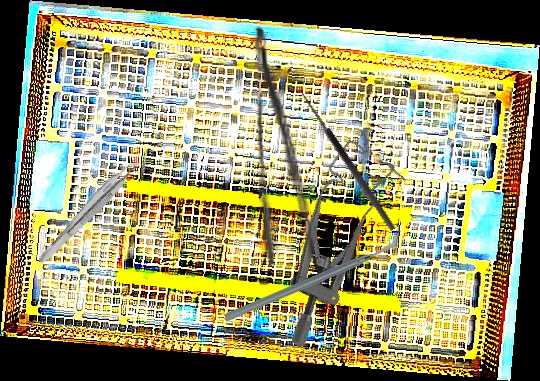Chopper: (225, 231, 401, 322)
Dressing Forceps: (250, 23, 319, 265)
Hook Surgical: (289, 87, 397, 237)
Speculum: (232, 134, 423, 351)
Tissue Forceps: (36, 154, 144, 271)
